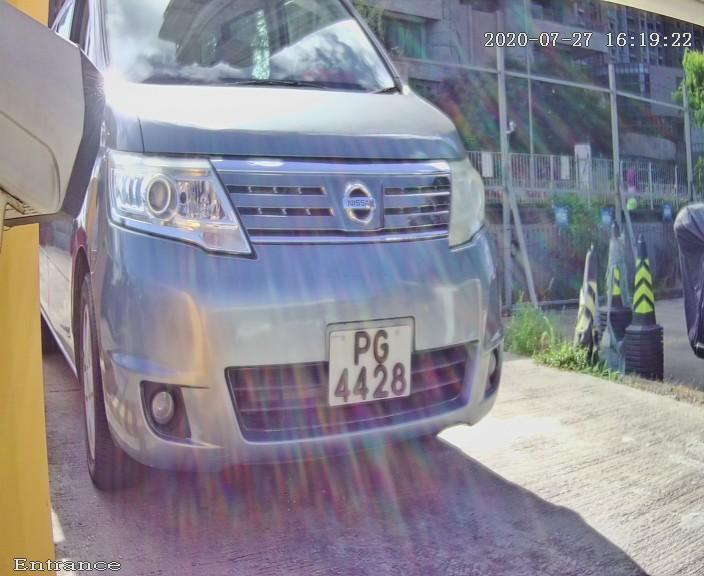privatecar: (48, 36, 525, 492)
